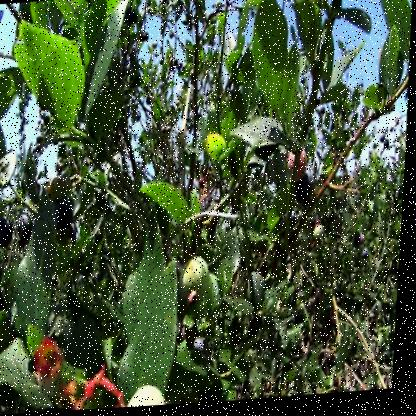intermediate: (286, 148, 312, 186)
mature: (296, 178, 319, 214), (19, 209, 37, 248), (1, 216, 17, 253)
young: (185, 260, 215, 316), (129, 382, 183, 409), (313, 224, 329, 245)
